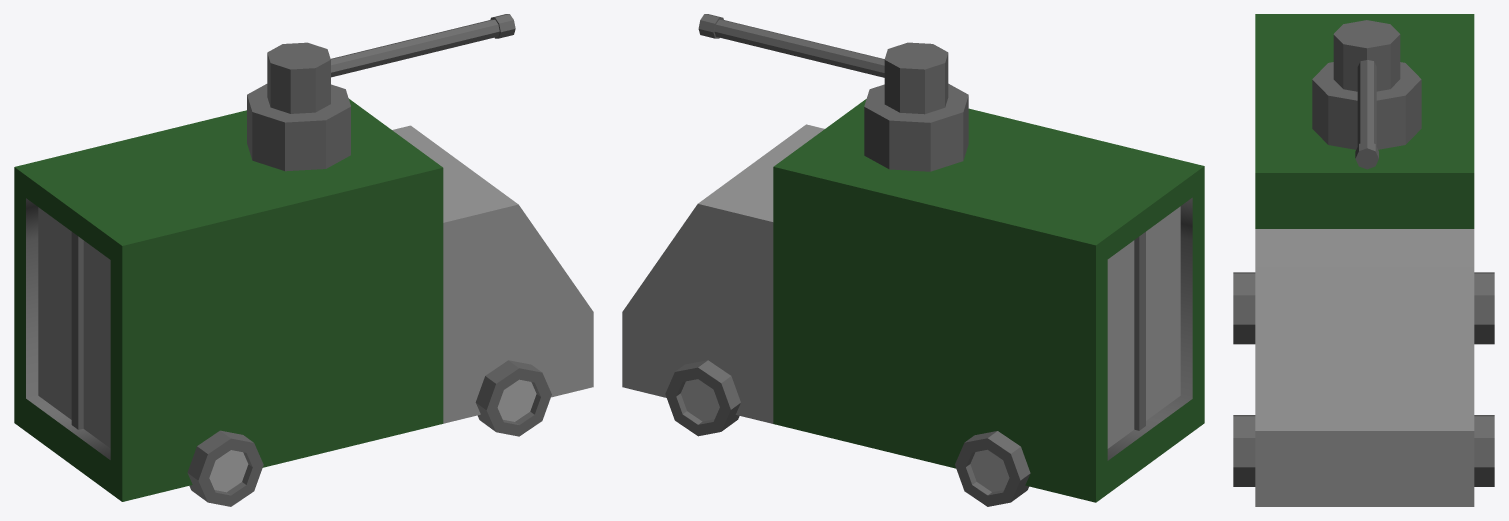
Rendered from jumper_v2.fbx.
3 views of the same model, side by side, from view 1: azimuth 30°, elevation 25°; view 2: azimuth 150°, elevation 25°; view 3: azimuth 270°, elevation 25° (orthographic).
Visible parts, largest first — view 1: Car_08, Cylinder.002, Cylinder.004, Cylinder.005, Cylinder.003, Cube; view 2: Car_08, Cylinder.002, Cylinder.001, Cylinder, Cylinder.003, Cube; view 3: Car_08, Cylinder.002, Cylinder.003, Cylinder.004, Cylinder.005, Cylinder, Cylinder.001.
Boxes of the visible parts, bbox=[...] form: Car_08: bbox=[14, 98, 593, 501]; Cylinder.002: bbox=[247, 42, 350, 171]; Cylinder.004: bbox=[187, 430, 263, 506]; Cylinder.005: bbox=[475, 360, 551, 436]; Cylinder.003: bbox=[331, 14, 515, 77]; Cube: bbox=[71, 232, 83, 429]; Car_08: bbox=[622, 99, 1204, 502]; Cylinder.002: bbox=[864, 42, 968, 171]; Cylinder.001: bbox=[665, 360, 740, 436]; Cylinder: bbox=[955, 431, 1030, 506]; Cylinder.003: bbox=[698, 14, 884, 77]; Cube: bbox=[1134, 232, 1145, 430]; Car_08: bbox=[1255, 14, 1474, 506]; Cylinder.002: bbox=[1312, 20, 1421, 149]; Cylinder.003: bbox=[1355, 60, 1378, 169]; Cylinder.004: bbox=[1233, 272, 1255, 344]; Cylinder.005: bbox=[1233, 415, 1255, 486]; Cylinder: bbox=[1474, 272, 1494, 344]; Cylinder.001: bbox=[1474, 415, 1494, 486].
Size of the model in its own units: 121 by 90.56 by 57.21.
